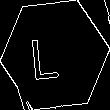L_N: (38, 28, 72, 82)
